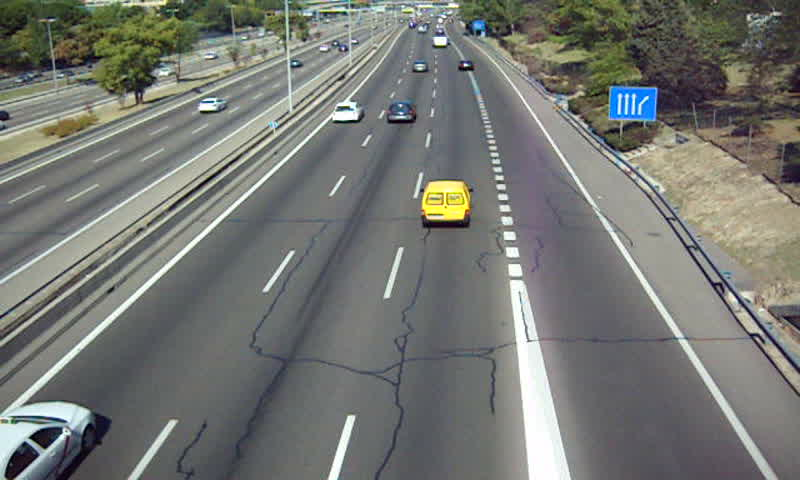car: (385, 102, 417, 125), (331, 101, 363, 122), (457, 58, 476, 72), (411, 61, 428, 75)
van: (421, 181, 472, 228)
